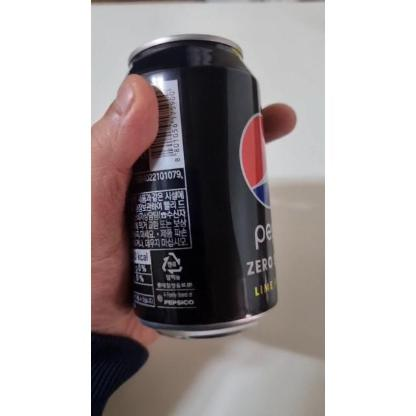Can: (125, 31, 277, 339)
